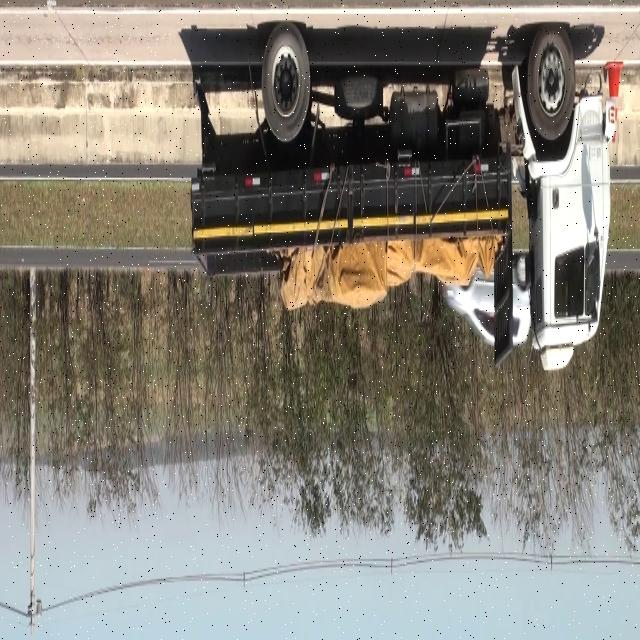-axle: (263, 23, 310, 145), (529, 27, 576, 140)
